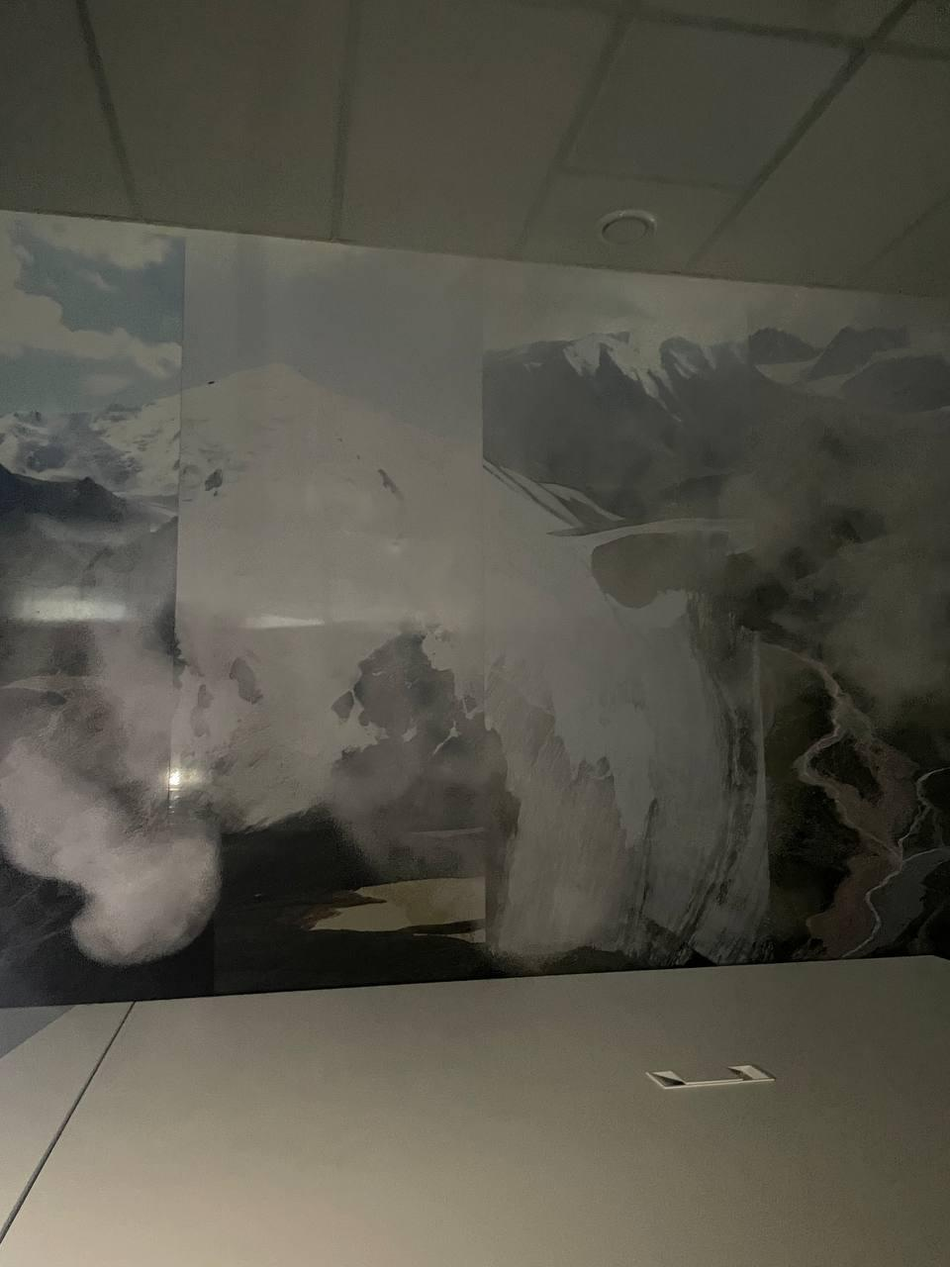smoke: (0, 278, 950, 979)
